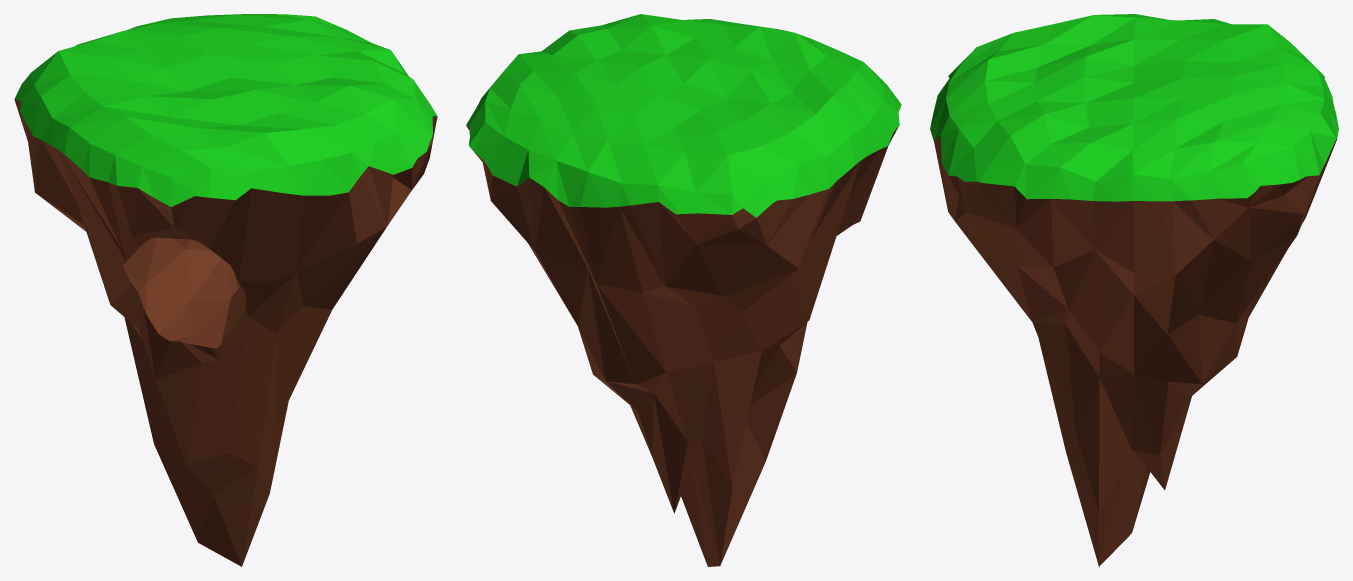
The model's file is island.obj.
The picture shows the model from 3 angles, left to right: view 1: azimuth 30°, elevation 25°; view 2: azimuth 150°, elevation 25°; view 3: azimuth 270°, elevation 25°; orthographic projection. The views are drawn at different scales.
Parts seen in each view (by area): view 1: Island_IslandDirt_0, Island_IslandGrass_0; view 2: Island_IslandDirt_0, Island_IslandGrass_0; view 3: Island_IslandDirt_0, Island_IslandGrass_0.
Boxes of the visible parts, left/top/right/bottom form: Island_IslandDirt_0: left=14, top=99, right=437, bottom=566; Island_IslandGrass_0: left=14, top=14, right=437, bottom=206; Island_IslandDirt_0: left=466, top=125, right=899, bottom=566; Island_IslandGrass_0: left=466, top=14, right=901, bottom=217; Island_IslandDirt_0: left=934, top=76, right=1336, bottom=566; Island_IslandGrass_0: left=930, top=14, right=1338, bottom=201.
Size of the model in its own units: 36.48 by 49.24 by 37.03.
